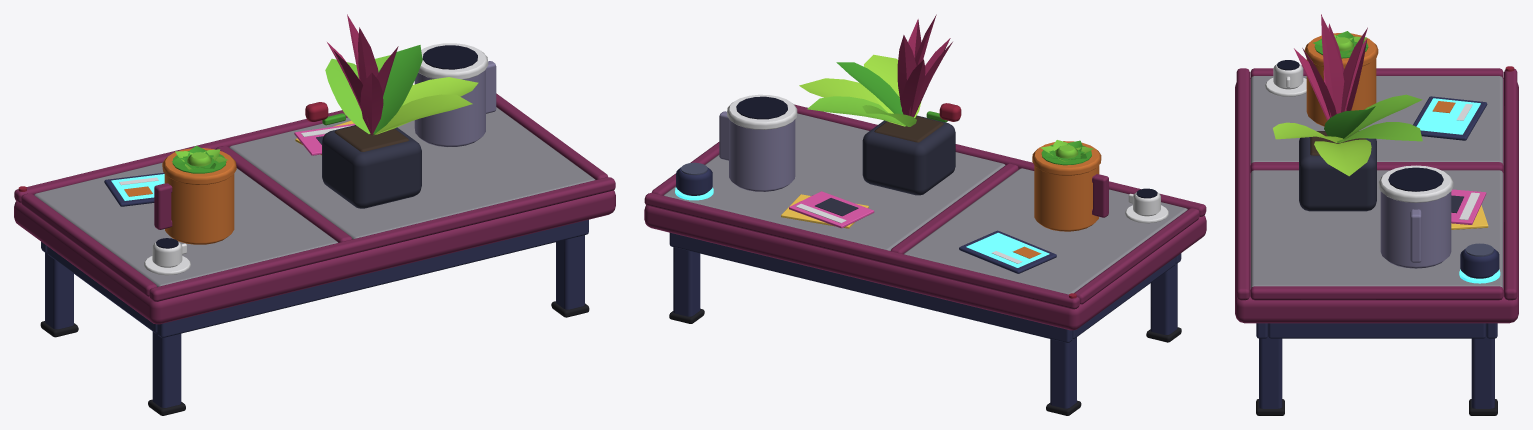
Rendered from prop.props_lounge.coffee_table.glb.
3 views of the same model, side by side, from view 1: azimuth 30°, elevation 25°; view 2: azimuth 150°, elevation 25°; view 3: azimuth 270°, elevation 25° (orthographic). The views are drawn at different scales.
Parts seen in each view (by area): view 1: prop.props_lounge.coffee_table; view 2: prop.props_lounge.coffee_table; view 3: prop.props_lounge.coffee_table.
Part boxes in pixels (<box>): prop.props_lounge.coffee_table: <box>14,14,615,415</box>; prop.props_lounge.coffee_table: <box>644,14,1206,415</box>; prop.props_lounge.coffee_table: <box>1235,14,1518,415</box>.
Size of the model in its own units: 1.5 by 0.9561 by 0.8.
